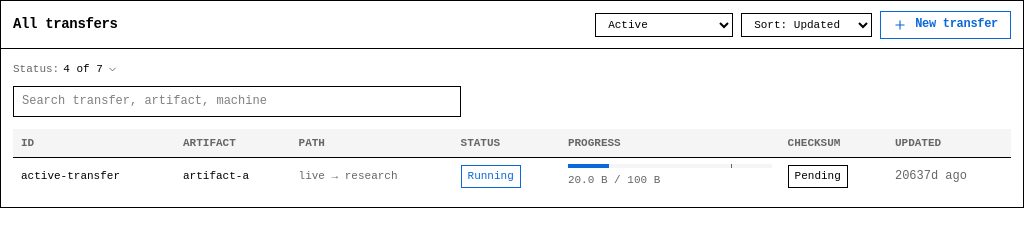
Scenario: ResearchTransfersPage › completed preset updates the status filter so completed rows remain visible
Select "Completed" in the dropdown named "transfer preset". click: (664, 24)
box: [595,12,733,36]
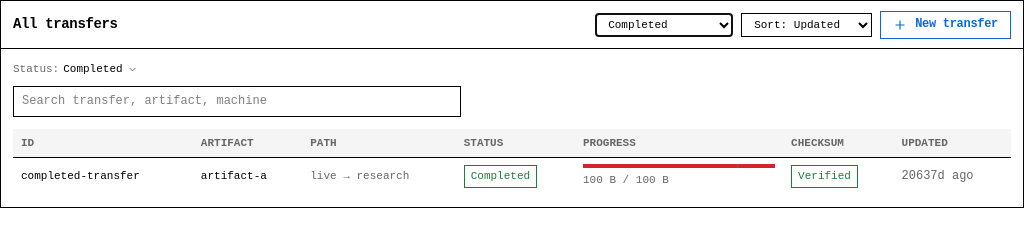
Result: the link "completed-transfer" is shown at [21,170,140,182]
Result: the link "active-transfer" is gone
